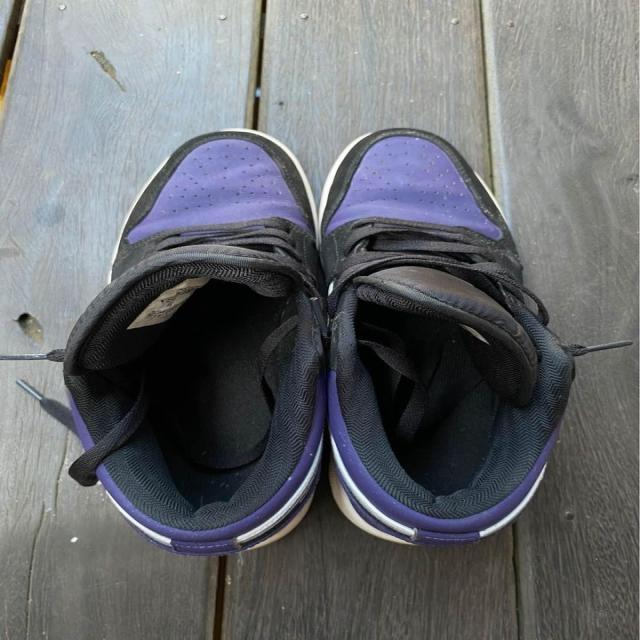nike fake jordan 1: (302, 124, 582, 552), (58, 128, 329, 557)
